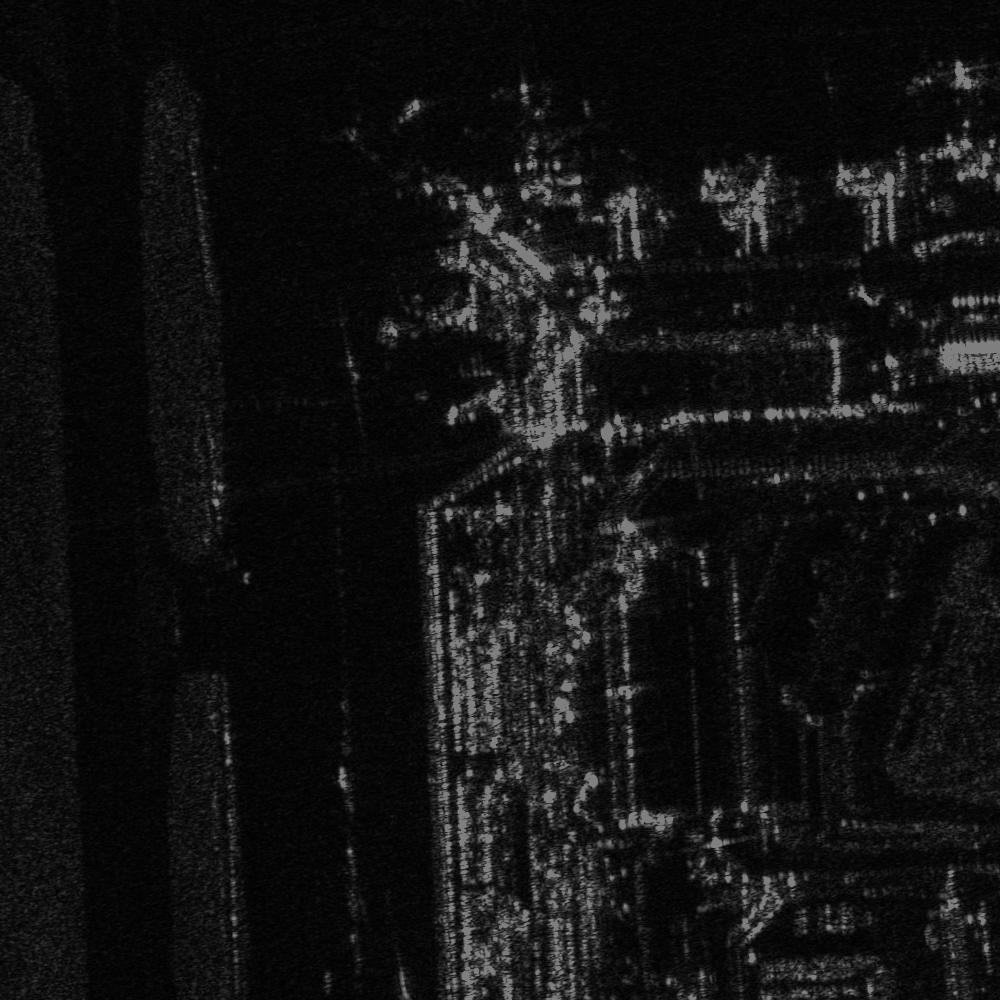Boeing787: (913, 45, 996, 110)
other: (493, 71, 581, 208)
